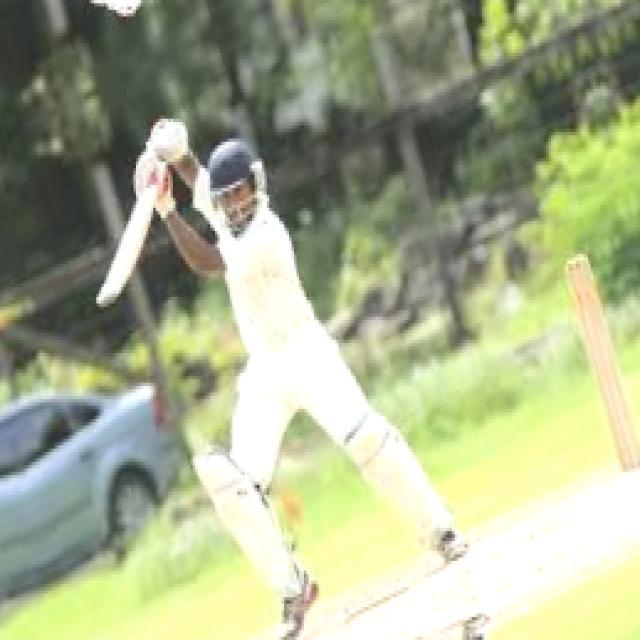bat: (94, 179, 156, 311)
toe: (95, 293, 121, 307)
